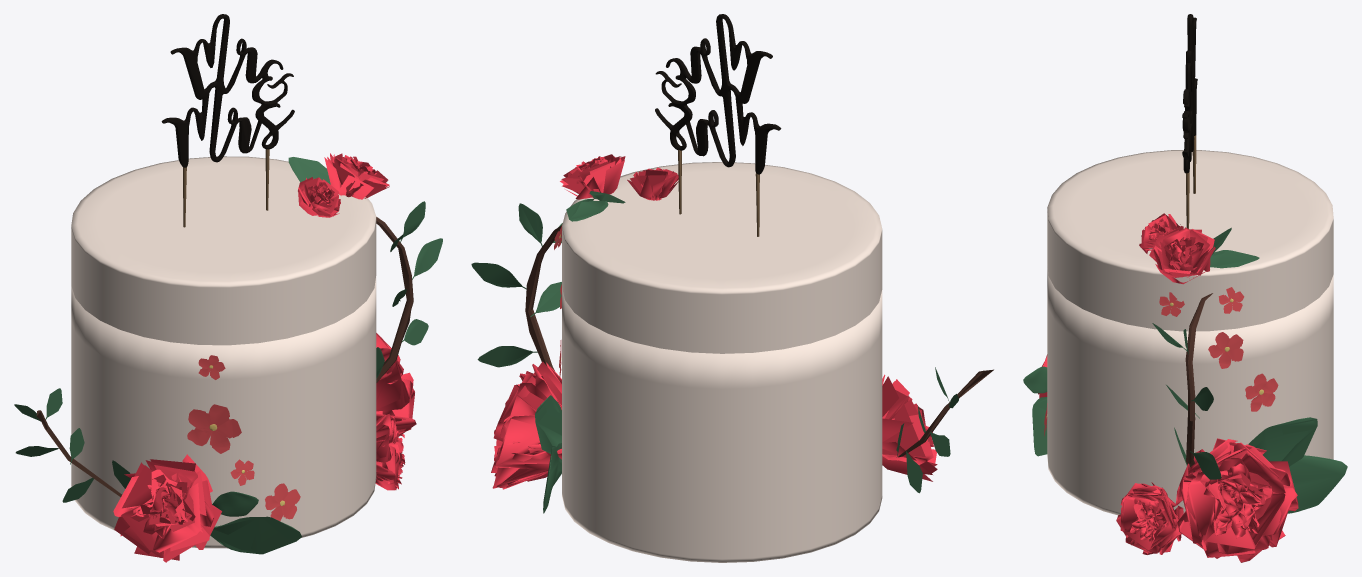
Rendered from 1-tier-white-roses-mrms.glb.
3 renders of one model, left to right at view 1: azimuth 30°, elevation 25°; view 2: azimuth 150°, elevation 25°; view 3: azimuth 270°, elevation 25°, orthographic. The views are drawn at different scales.
Parts seen in each view (by area): view 1: Cylinder.019, grid.039, mrms.001, Plane.083, Plane.074, Plane.075, grid.038, grid.041, grid.033, Sphere.050, grid.035, Sphere.054 (+2 smaller); view 2: Cylinder.019, mrms.001, grid.038, Plane.083, grid.039, grid.041, Plane.075, Plane.079, grid.035, Plane.086; view 3: Cylinder.019, grid.038, grid.033, grid.041, Plane.083, mrms.001, Plane.080, Plane.079, Sphere.057, Sphere.059, Plane.074, grid.035 (+3 smaller).
Boxes of the visible parts, x1,y1,x2,y2 form: Cylinder.019: [71, 156, 376, 548]; grid.039: [113, 454, 221, 562]; mrms.001: [161, 14, 294, 227]; Plane.083: [376, 201, 442, 382]; Plane.074: [210, 516, 301, 554]; Plane.075: [14, 388, 130, 502]; grid.038: [376, 333, 416, 437]; grid.041: [324, 153, 389, 199]; grid.033: [375, 414, 405, 490]; Sphere.050: [187, 404, 241, 453]; grid.035: [298, 177, 340, 217]; Sphere.054: [265, 483, 300, 520]; Cylinder.019: [562, 162, 882, 562]; mrms.001: [655, 14, 781, 236]; grid.038: [491, 361, 561, 489]; Plane.083: [471, 203, 562, 370]; grid.039: [882, 374, 937, 481]; grid.041: [560, 154, 625, 199]; Plane.075: [896, 367, 993, 493]; Plane.079: [535, 395, 561, 453]; grid.035: [627, 167, 678, 200]; Plane.086: [566, 199, 608, 221]; Cylinder.019: [1047, 150, 1333, 515]; grid.038: [1176, 438, 1298, 562]; grid.033: [1116, 482, 1183, 554]; grid.041: [1149, 226, 1215, 284]; Plane.083: [1152, 293, 1221, 479]; mrms.001: [1182, 14, 1197, 228]; Plane.080: [1287, 455, 1347, 513]; Plane.079: [1248, 417, 1317, 466]; Sphere.057: [1208, 332, 1243, 368]; Sphere.059: [1245, 373, 1278, 411]; Plane.074: [1032, 397, 1047, 456]; grid.035: [1139, 213, 1180, 253].
Size of the model in its own units: 4.49 by 4.63 by 2.9.
